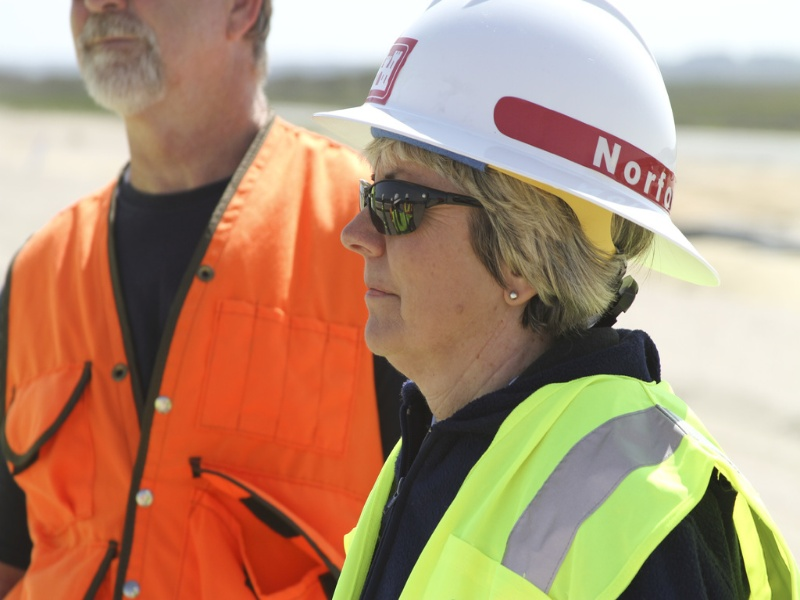helmet: (345, 1, 686, 239)
jacket: (26, 139, 381, 592), (352, 377, 793, 600)
